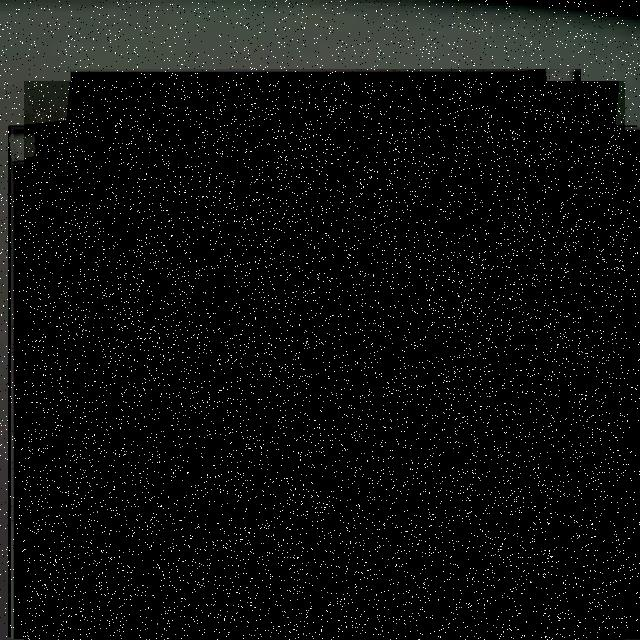dua ribu rupiah: (24, 81, 625, 640)
